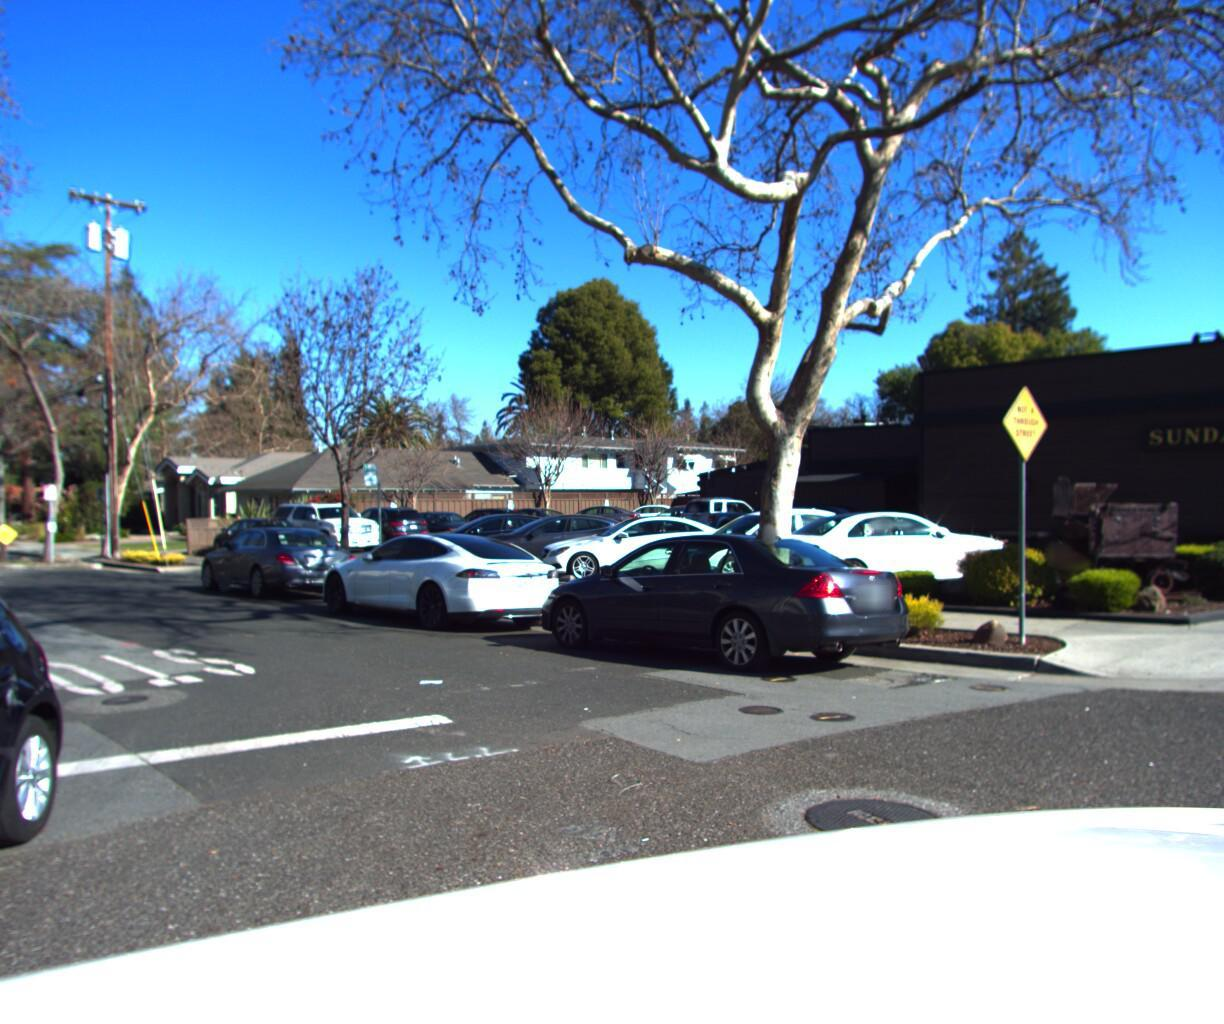car: (545, 515, 932, 691), (0, 515, 93, 1024), (309, 516, 585, 641), (748, 499, 1036, 593), (654, 499, 896, 581), (188, 516, 373, 600), (531, 503, 750, 574), (455, 506, 654, 570), (404, 505, 582, 564), (262, 498, 388, 553), (331, 501, 434, 547)
